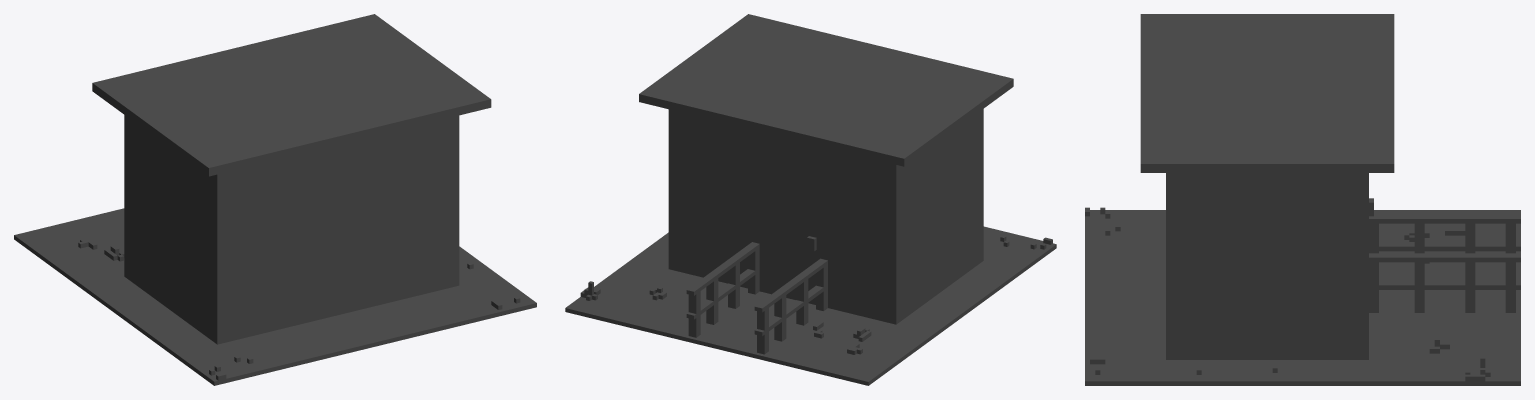
File: Casa.obj
The picture shows the model from 3 angles, left to right: view 1: azimuth 30°, elevation 25°; view 2: azimuth 150°, elevation 25°; view 3: azimuth 270°, elevation 25°; orthographic projection. The views are drawn at different scales.
Size of the model in its own units: 8 by 4.6 by 8.6.
